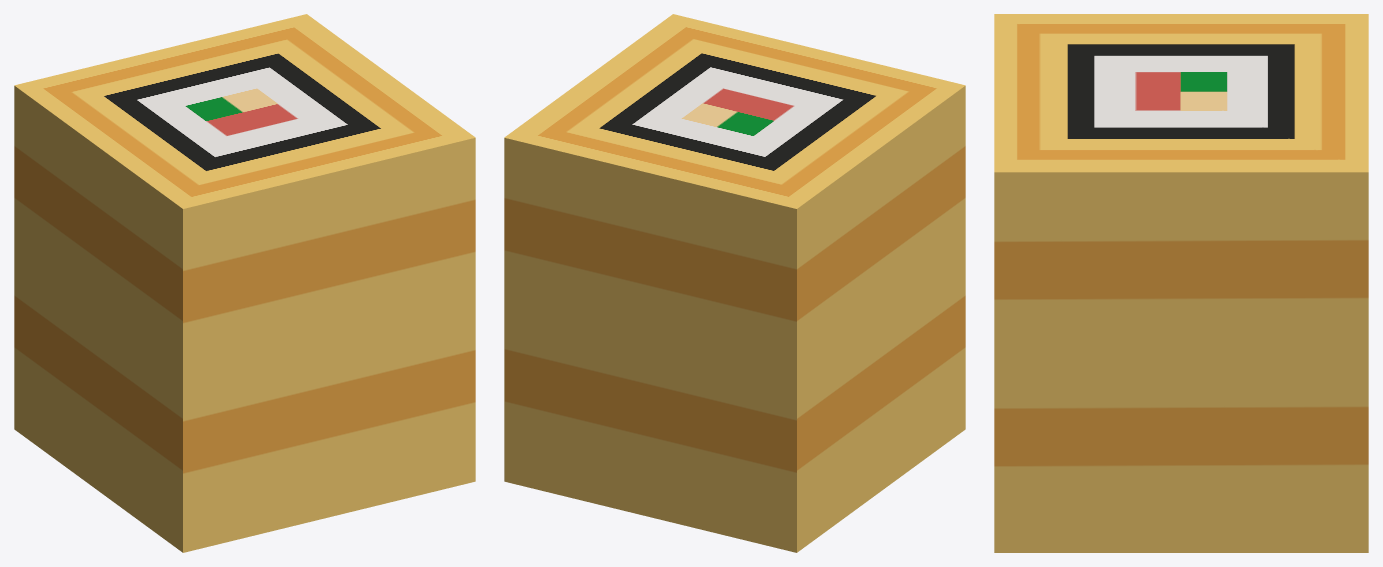
File: Sushi-8.fbx
3 renders of one model, left to right at view 1: azimuth 30°, elevation 25°; view 2: azimuth 150°, elevation 25°; view 3: azimuth 270°, elevation 25°, orthographic. The views are drawn at different scales.
Visible parts, largest first — view 1: Cube; view 2: Cube; view 3: Cube.
Boxes of the visible parts, <box> form: Cube: <box>14,14,475,552</box>; Cube: <box>504,14,965,552</box>; Cube: <box>994,14,1368,552</box>.
Bounding box in the file's own units: 196 × 220 × 196.
1 material, 1 textured.
